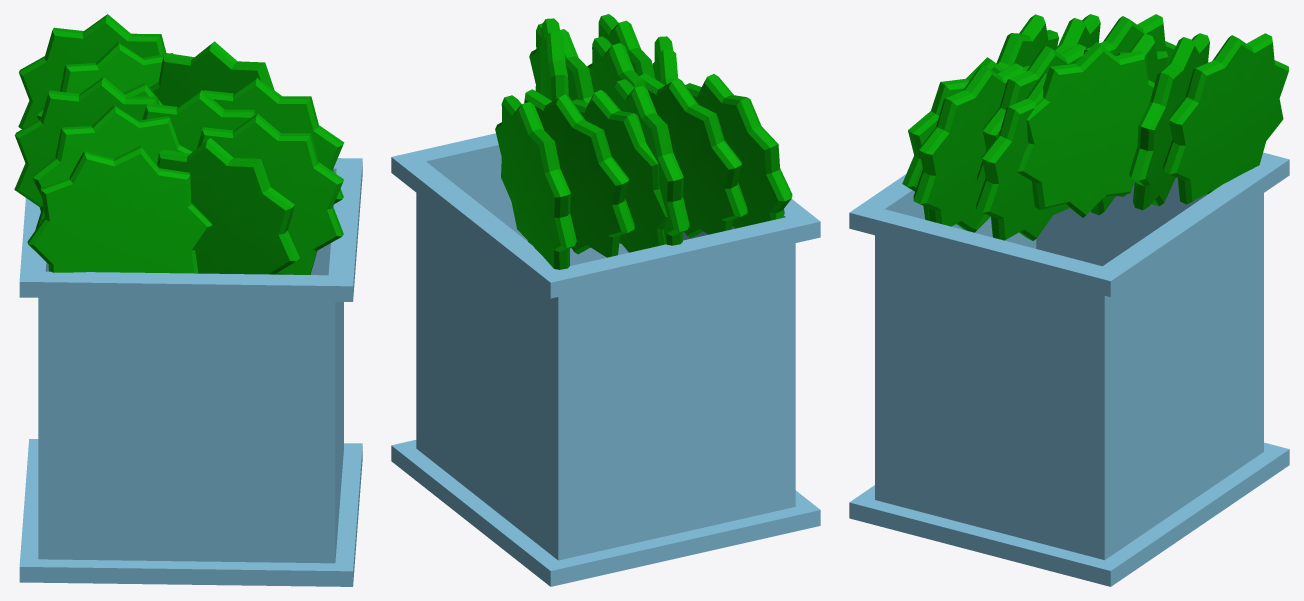
The model's file is ColeccionLechuga.fbx.
3 views of the same model, side by side, from view 1: azimuth 30°, elevation 25°; view 2: azimuth 150°, elevation 25°; view 3: azimuth 270°, elevation 25° (orthographic).
Parts seen in each view (by area): view 1: pCylinderShape16; view 2: pCylinderShape16; view 3: pCylinderShape16.
Boxes of the visible parts, bbox=[...] form: pCylinderShape16: bbox=[14, 14, 362, 586]; pCylinderShape16: bbox=[391, 14, 820, 586]; pCylinderShape16: bbox=[849, 14, 1289, 586].
Bounding box in the file's own units: 9.17 × 10.46 × 8.96.
